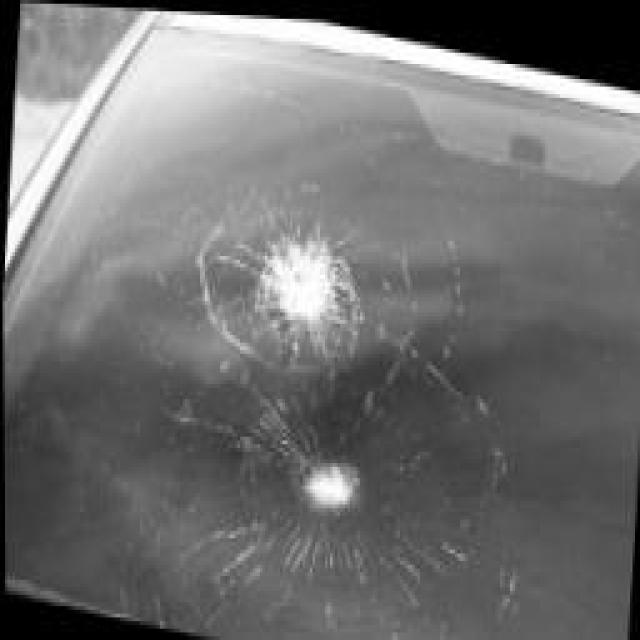Windshield: (5, 4, 640, 640)
